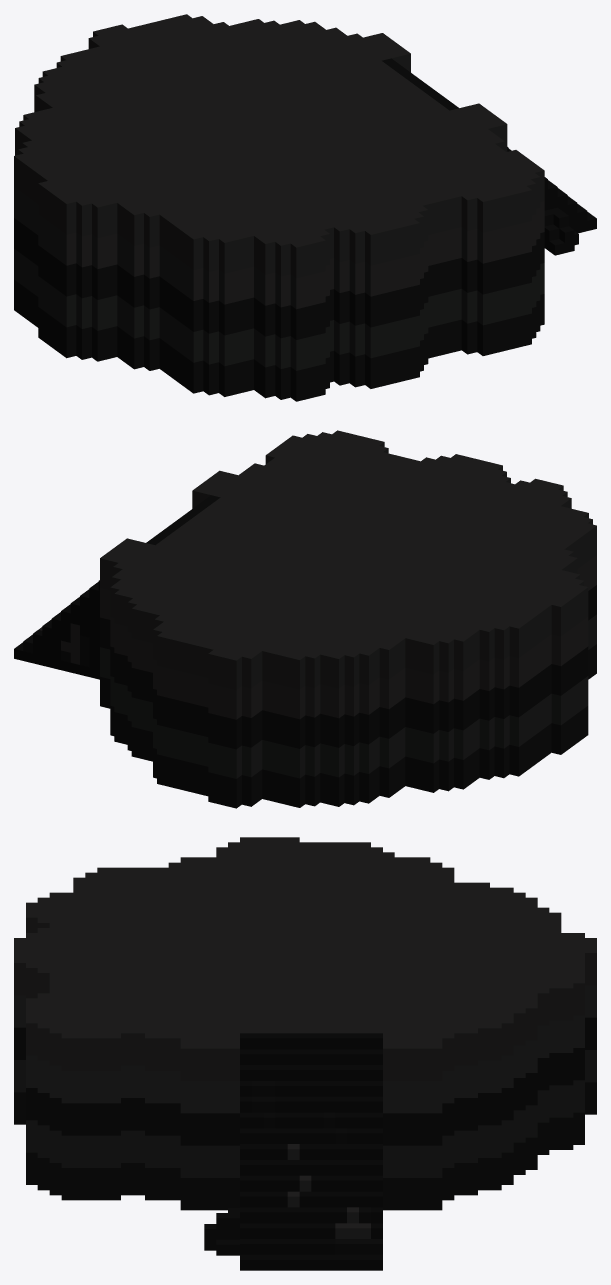
Rendered from upperground.FBX.
3 views of the same model, one above another, from view 1: azimuth 30°, elevation 25°; view 2: azimuth 150°, elevation 25°; view 3: azimuth 270°, elevation 25° (orthographic). The views are drawn at different scales.
Parts seen in each view (by area): view 1: ground5; view 2: ground5; view 3: ground5.
Part boxes in pixels (x1,y1,x2,y2): ground5: (14, 14, 596, 401); ground5: (14, 430, 596, 808); ground5: (14, 837, 596, 1270).
Size of the model in its own units: 5.4 by 1.5 by 4.9.
